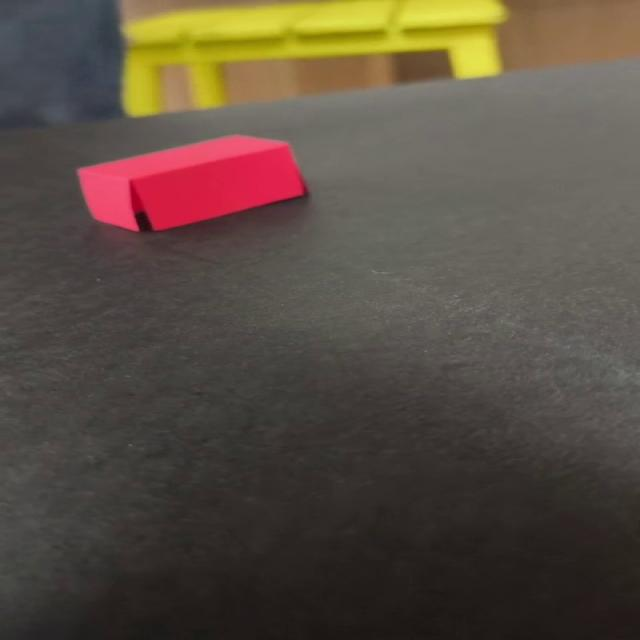red block: (75, 132, 308, 232)
